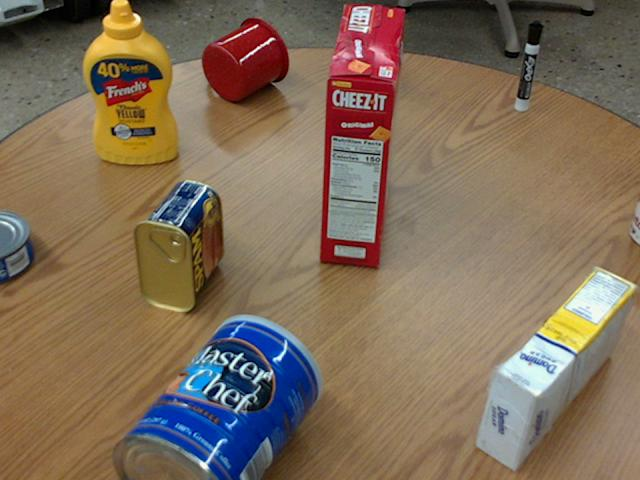cracker_box: (317, 6, 401, 266)
gelatin_box: (359, 24, 384, 103)
large_marker: (514, 22, 541, 110)
master_chef_can: (112, 314, 321, 479)
mug: (201, 16, 288, 101)
mustard_bottle: (83, 0, 176, 163)
potted_meat_can: (131, 178, 220, 311)
sugar_box: (475, 267, 633, 472)
tomato_soup_can: (627, 183, 639, 247)
tuna_fish_can: (0, 208, 33, 281)
